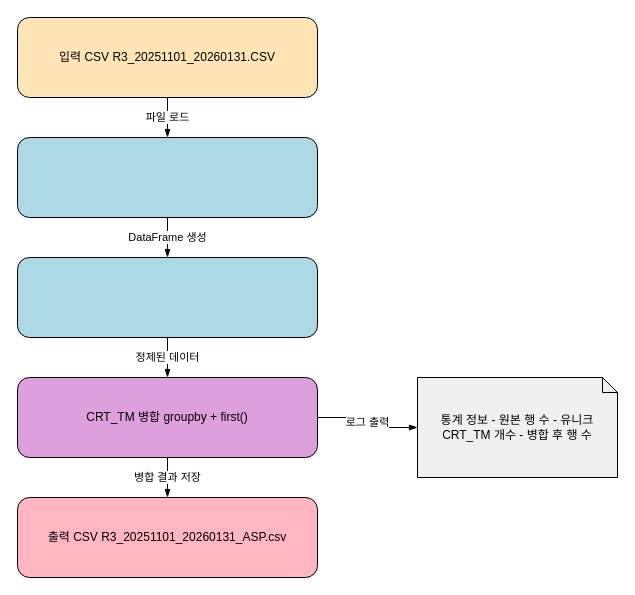
This 635x595 diagram has some shape labels left out. The box of each missing label's shape, as (x1, y1, x2, y2) in pixels:
인코딩 감지 utf-8 -> cp949 -> euc-kr: (16, 136, 318, 218)
컬럼 정리 공백/특수문자 제거 Unnamed 컬럼 제거: (16, 256, 318, 338)
